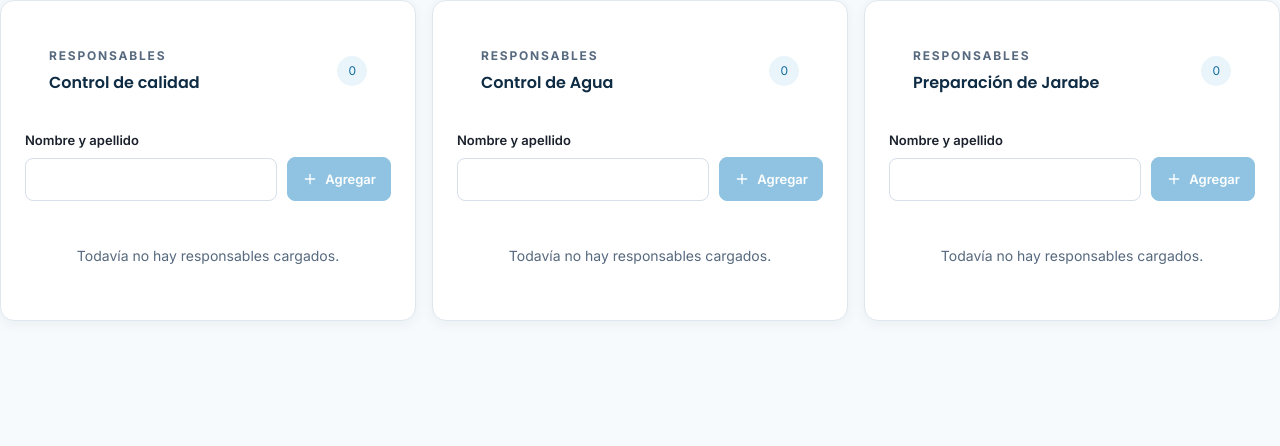
Scenario: shows the server message when the name is a duplicate
Type "Moya Luis" into the field named "Nuevo responsable de Control de calidad" at (151, 179), box [25,158,277,200]
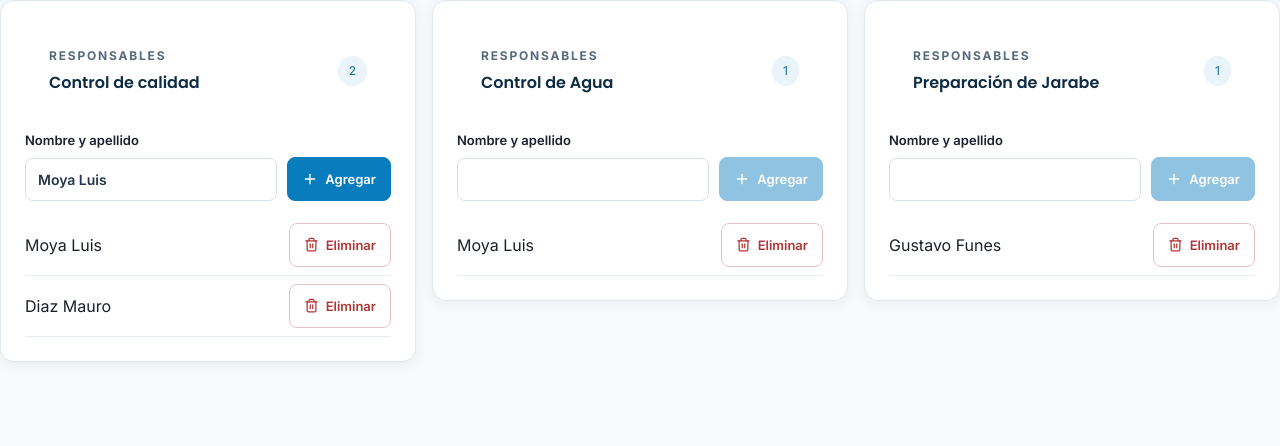
Click the button "Agregar" below "Control de calidad" at (339, 178), box [287,156,391,200]
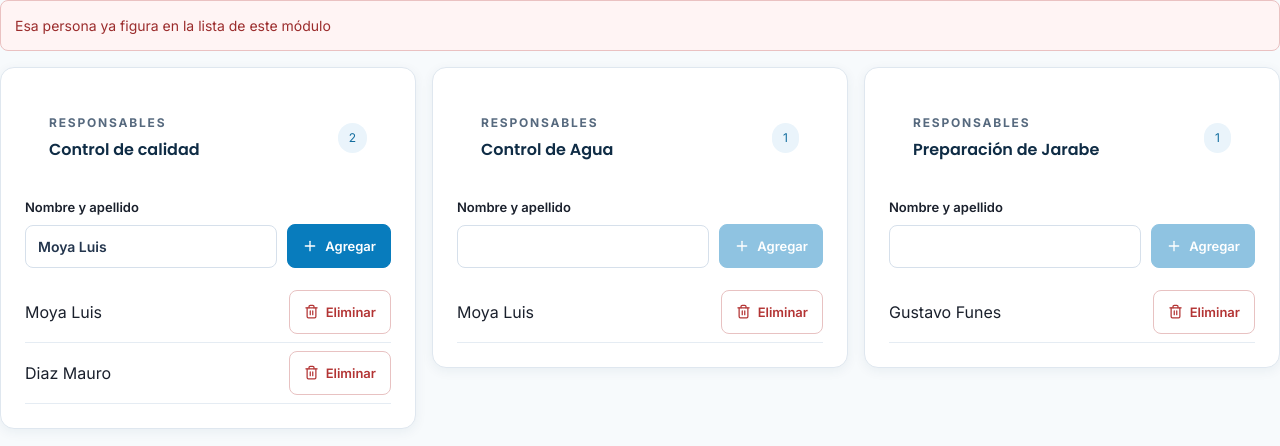
Expected: the message shows "ya figura", [15,17,331,34]
